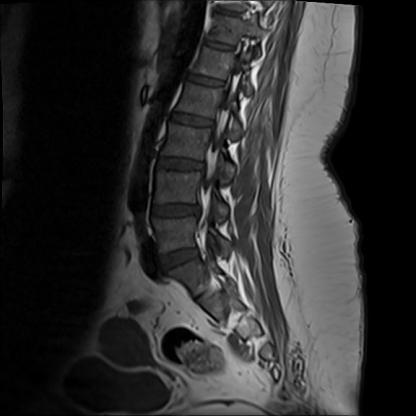Degenerative Disc Diseaserotation: (148, 197, 208, 224), (158, 246, 205, 274)
Disc Relaxationrotation: (158, 244, 207, 274)
